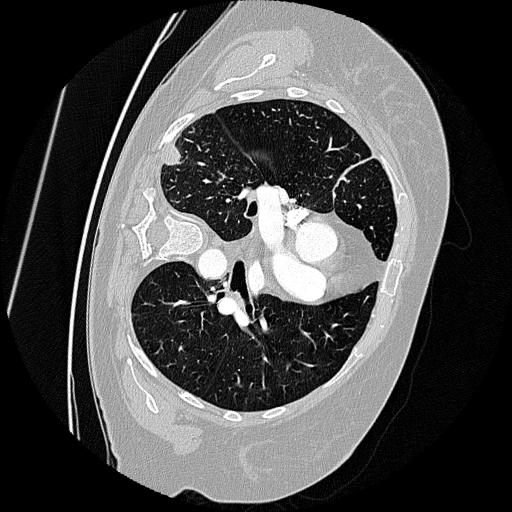nodule: (160, 143, 188, 171)
